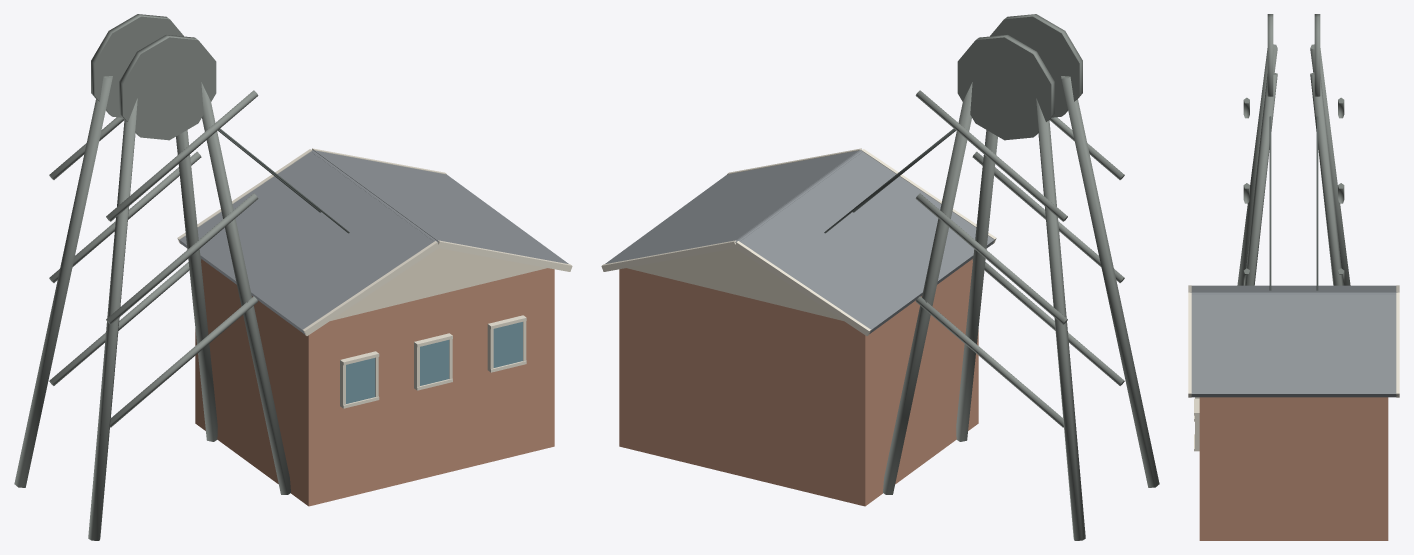
File: rhine-mine_lod1.glb
3 renders of one model, left to right at view 1: azimuth 30°, elevation 25°; view 2: azimuth 150°, elevation 25°; view 3: azimuth 270°, elevation 25°, orthographic. The views are drawn at different scales.
Visible parts, largest first — view 1: RF_WindingHouse, RF_Roof.001, RF_Roof, RF_WindingWheel.001, RF_HeadframeLeg.001, RF_Gable, RF_HeadframeLeg.002, RF_HeadframeLeg.003, RF_HeadframeLeg, RF_WindingWheel, RF_HeadframeBrace.003, RF_HeadframeBrace.005 (+8 smaller); view 2: RF_WindingHouse, RF_Roof.001, RF_Roof, RF_WindingWheel, RF_HeadframeLeg.002, RF_Gable.001, RF_HeadframeLeg.001, RF_HeadframeLeg, RF_HeadframeLeg.003, RF_WindingWheel.001, RF_HeadframeBrace.004, RF_HeadframeBrace (+5 smaller); view 3: RF_WindingHouse, RF_Roof, RF_HeadframeLeg.003, RF_HeadframeLeg, RF_Roof.001, RF_HeadframeLeg.001, RF_HeadframeLeg.002, RF_Ridge, RF_WindingWheel.001, RF_WindingWheel, RF_WindingCable.001, RF_WindingCable (+2 smaller).
Part boxes in pixels (x1,y1,x2,y2): RF_WindingHouse: [195, 259, 554, 506]; RF_Roof.001: [179, 151, 434, 334]; RF_Roof: [313, 150, 568, 263]; RF_WindingWheel.001: [119, 35, 216, 140]; RF_HeadframeLeg.001: [88, 98, 137, 540]; RF_Gable: [330, 248, 546, 320]; RF_HeadframeLeg.002: [14, 76, 112, 487]; RF_HeadframeLeg.003: [201, 82, 290, 494]; RF_HeadframeLeg: [176, 130, 217, 441]; RF_WindingWheel: [91, 14, 183, 117]; RF_HeadframeBrace.003: [106, 193, 258, 324]; RF_HeadframeBrace.005: [106, 90, 258, 221]; RF_WindingHouse: [619, 259, 978, 506]; RF_Roof.001: [739, 151, 994, 333]; RF_Roof: [605, 150, 860, 263]; RF_WindingWheel: [957, 35, 1054, 140]; RF_HeadframeLeg.002: [1036, 98, 1085, 540]; RF_Gable.001: [627, 248, 843, 320]; RF_HeadframeLeg.001: [1061, 76, 1159, 487]; RF_HeadframeLeg: [883, 82, 972, 494]; RF_HeadframeLeg.003: [956, 130, 997, 441]; RF_WindingWheel.001: [990, 14, 1082, 117]; RF_HeadframeBrace.004: [915, 193, 1067, 324]; RF_HeadframeBrace: [915, 90, 1067, 221]; RF_WindingHouse: [1199, 397, 1388, 540]; RF_Roof: [1191, 293, 1397, 397]; RF_HeadframeLeg.003: [1244, 72, 1277, 285]; RF_HeadframeLeg: [1310, 72, 1343, 285]; RF_Roof.001: [1190, 285, 1397, 292]; RF_HeadframeLeg.001: [1237, 44, 1277, 285]; RF_HeadframeLeg.002: [1310, 44, 1350, 285]; RF_Ridge: [1192, 292, 1395, 294]; RF_WindingWheel.001: [1267, 14, 1273, 96]; RF_WindingWheel: [1314, 14, 1320, 96]; RF_WindingCable.001: [1269, 116, 1271, 290]; RF_WindingCable: [1316, 116, 1318, 290].
Bounding box in the file's own units: 18.53 × 18.04 × 8.98.
